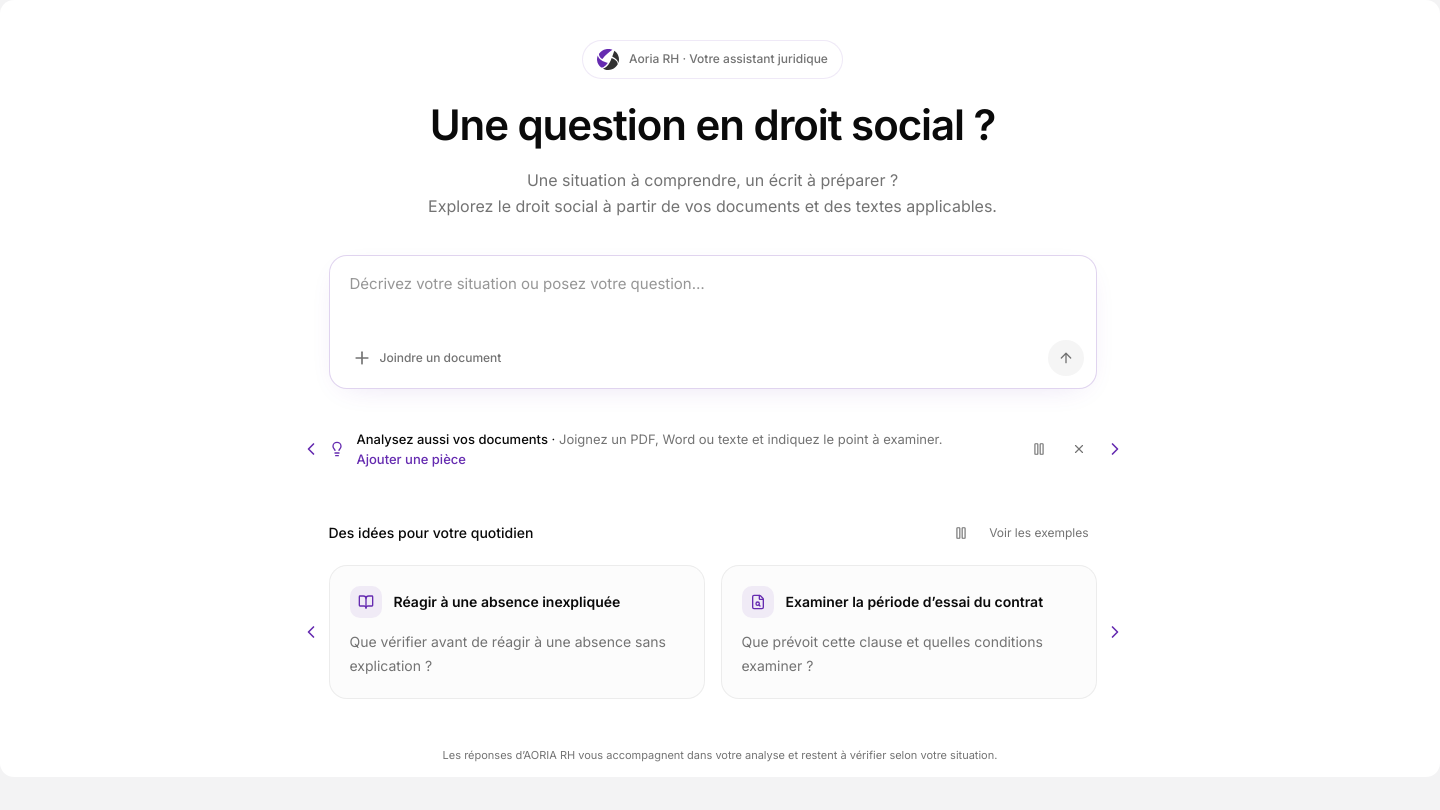
Test: shows the input, rotating ideas, then two carousel cards for dirigeant
Click the button "Réagir à une absence inexpliquée": (516, 632) [328,565,704,699]
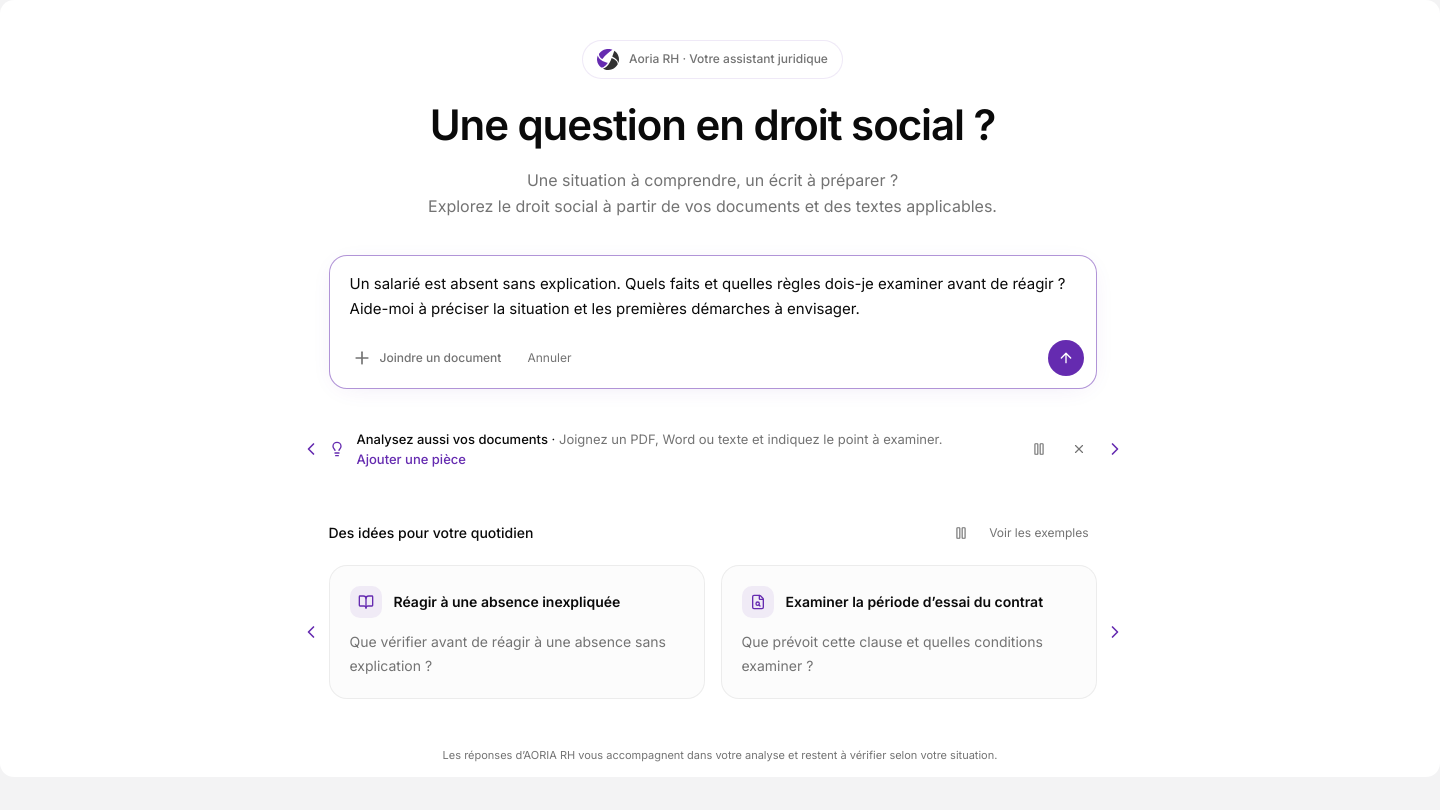
Expected: the text box is not empty, [330,256,1096,336]
